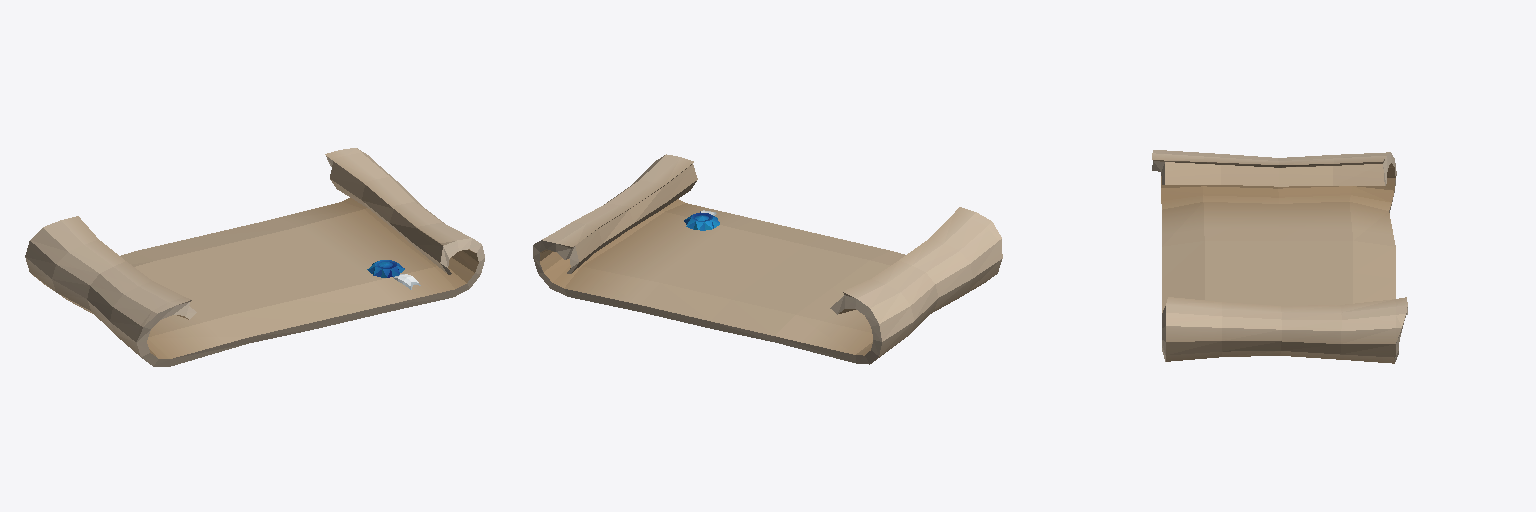
3 renders of one model, left to right at view 1: azimuth 30°, elevation 25°; view 2: azimuth 150°, elevation 25°; view 3: azimuth 270°, elevation 25°, orthographic.
Visible parts, largest first — view 1: map_empty; view 2: map_empty; view 3: map_empty.
Boxes of the visible parts, <box> form: map_empty: <box>25,148,484,366</box>; map_empty: <box>533,154,1002,364</box>; map_empty: <box>1152,150,1407,363</box>.
Bounding box in the file's own units: 1.94 × 0.3548 × 1.22.
Materials: 2 (2 with a texture image).